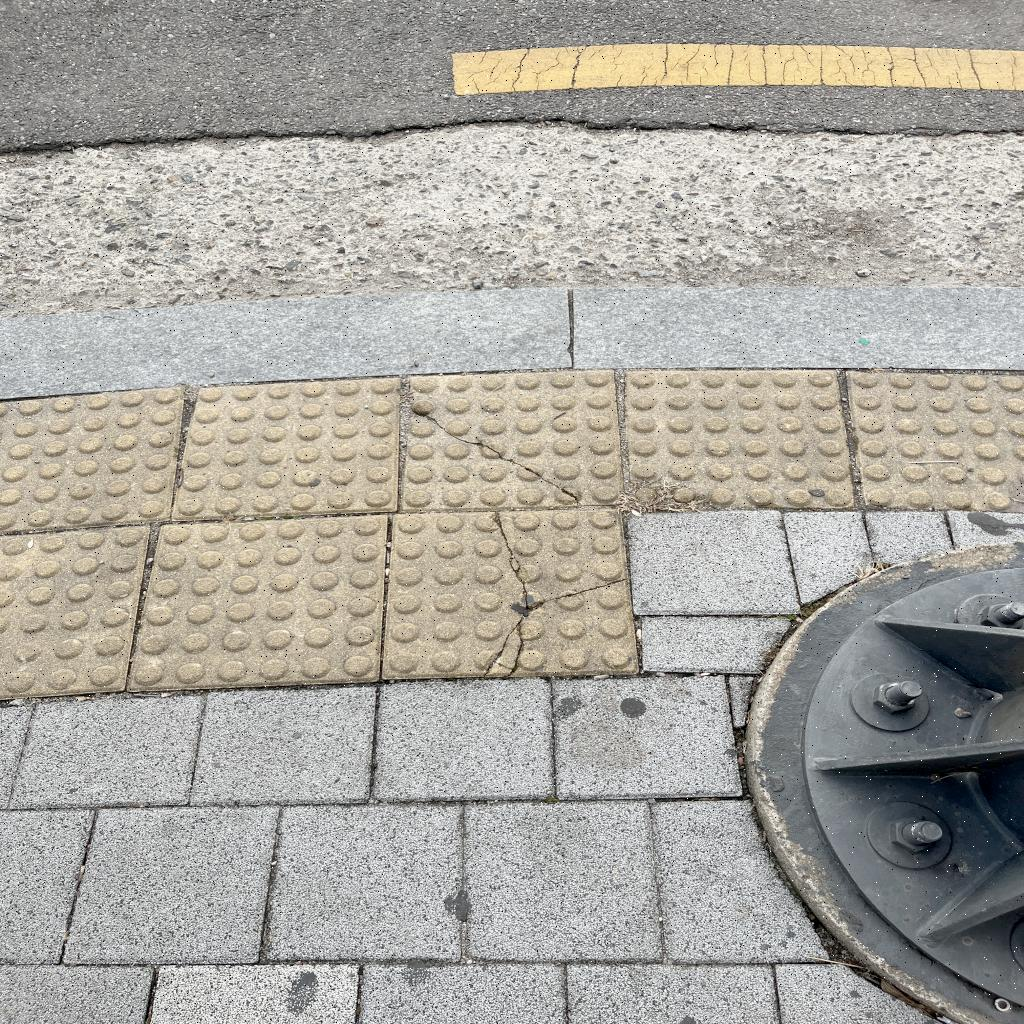Stop block broken: (377, 505, 636, 680), (397, 370, 621, 511)
Stop block normal: (121, 515, 395, 690), (169, 378, 407, 517), (626, 372, 839, 507)
